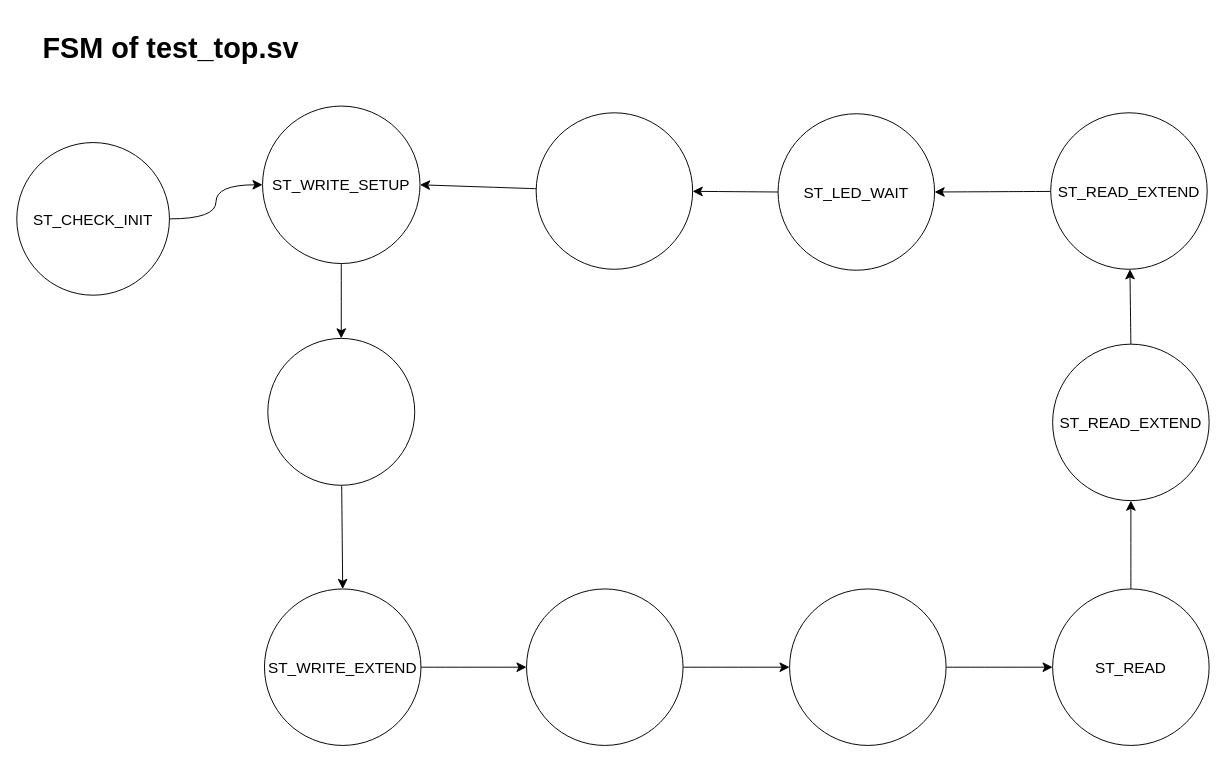
This 1226x762 diagram has some shape labels left out. The shapes that lost their labels are listed below. From the top down, each one's centre as x and y in pixels, then its label:
(614,190): ST_GEN
(341,411): ST_WRITE
(604,666): ST_WRITE_WAIT
(867,666): ST_READ_SETUP
